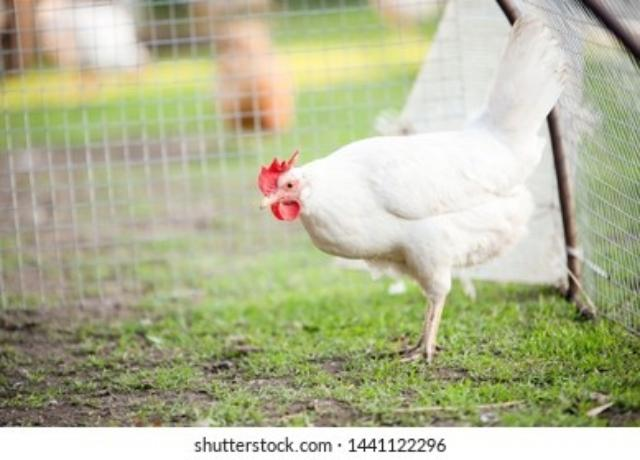Chicken: (257, 15, 570, 358)
